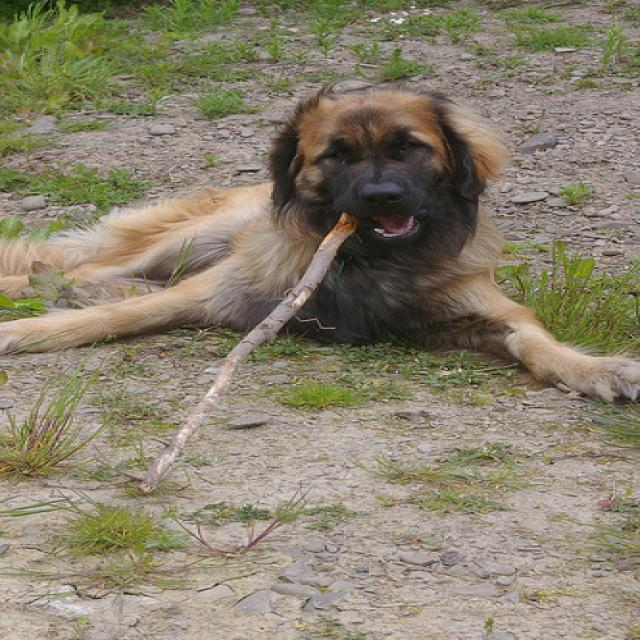dog-leonberger: (2, 79, 636, 403)
